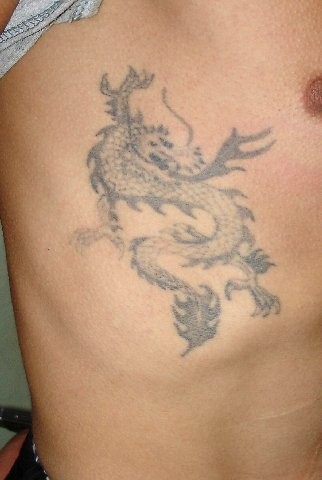tatu6_drakon: (69, 61, 296, 359)
